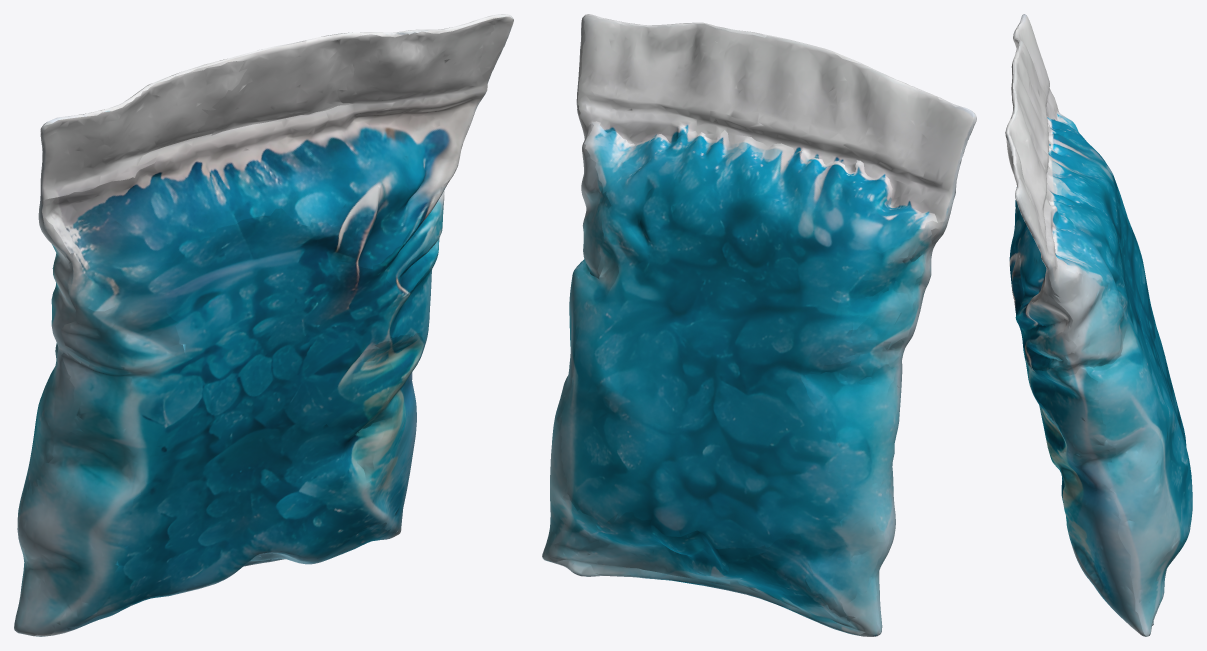
The model's file is meth-bag.fbx.
3 renders of one model, left to right at view 1: azimuth 30°, elevation 25°; view 2: azimuth 150°, elevation 25°; view 3: azimuth 270°, elevation 25°, orthographic. The views are drawn at different scales.
Parts seen in each view (by area): view 1: textured_mesh; view 2: textured_mesh; view 3: textured_mesh.
Boxes of the visible parts, x1=… form: textured_mesh: x1=14, y1=14, x2=513, y2=636; textured_mesh: x1=542, y1=14, x2=976, y2=636; textured_mesh: x1=1005, y1=14, x2=1192, y2=636.
Bounding box in the file's own units: 161 × 199 × 69.99.
1 material, 1 textured.
